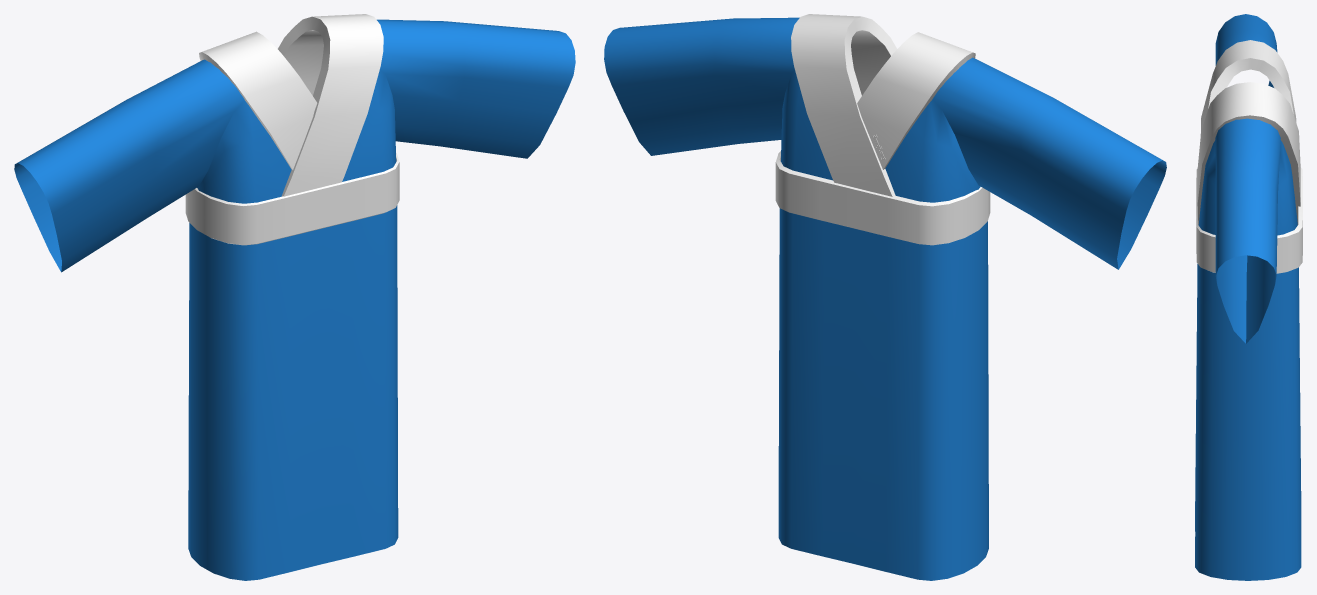
Rendered from kimono.glb.
3 renders of one model, left to right at view 1: azimuth 30°, elevation 25°; view 2: azimuth 150°, elevation 25°; view 3: azimuth 270°, elevation 25°, orthographic. The views are drawn at different scales.
Visible parts, largest first — view 1: Circle.1797; view 2: Circle.1797; view 3: Circle.1797.
Boxes of the visible parts, box(x1,y1,x2,y2) form: Circle.1797: box(14, 14, 575, 580); Circle.1797: box(604, 14, 1166, 580); Circle.1797: box(1195, 14, 1302, 580).
Size of the model in its own units: 2.35 by 2.13 by 0.4443.
Materials: 1 (1 with a texture image).
